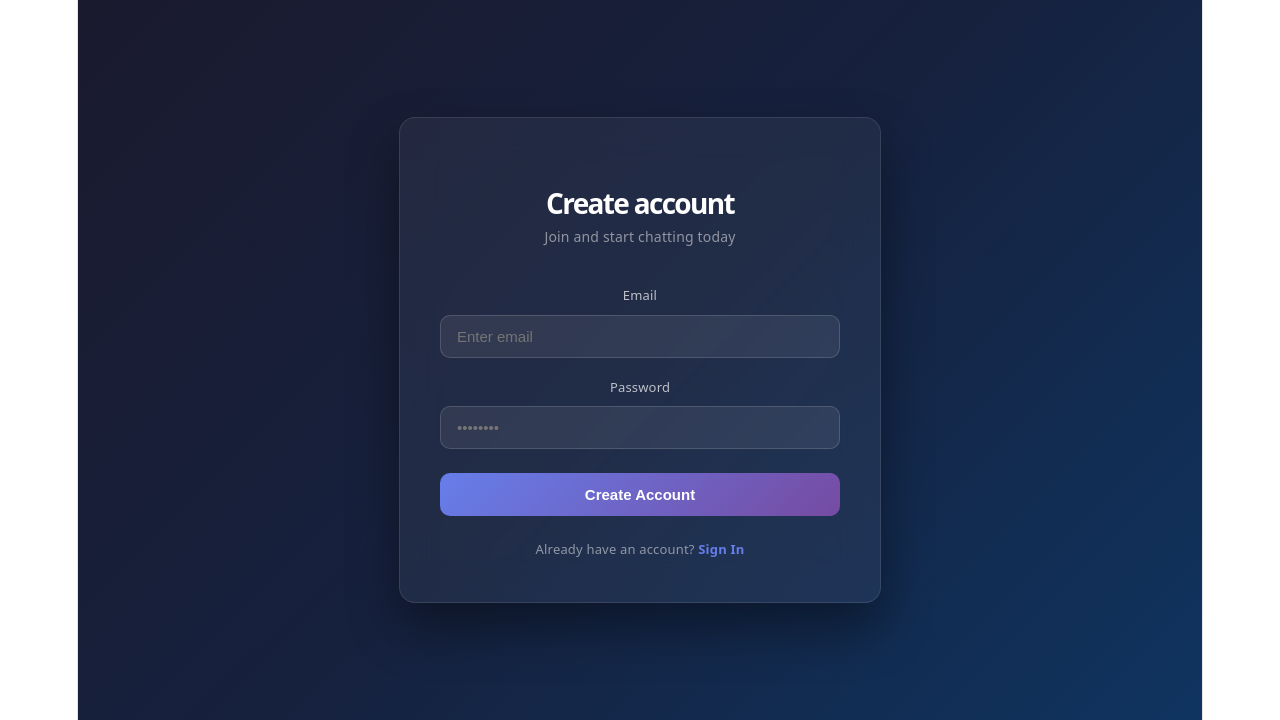
it: Signup Component › shows error when email already exists (409)
Type "existing@test.com" into the field with placeholder "Enter email" at [640, 336], box [440,314,840,358]
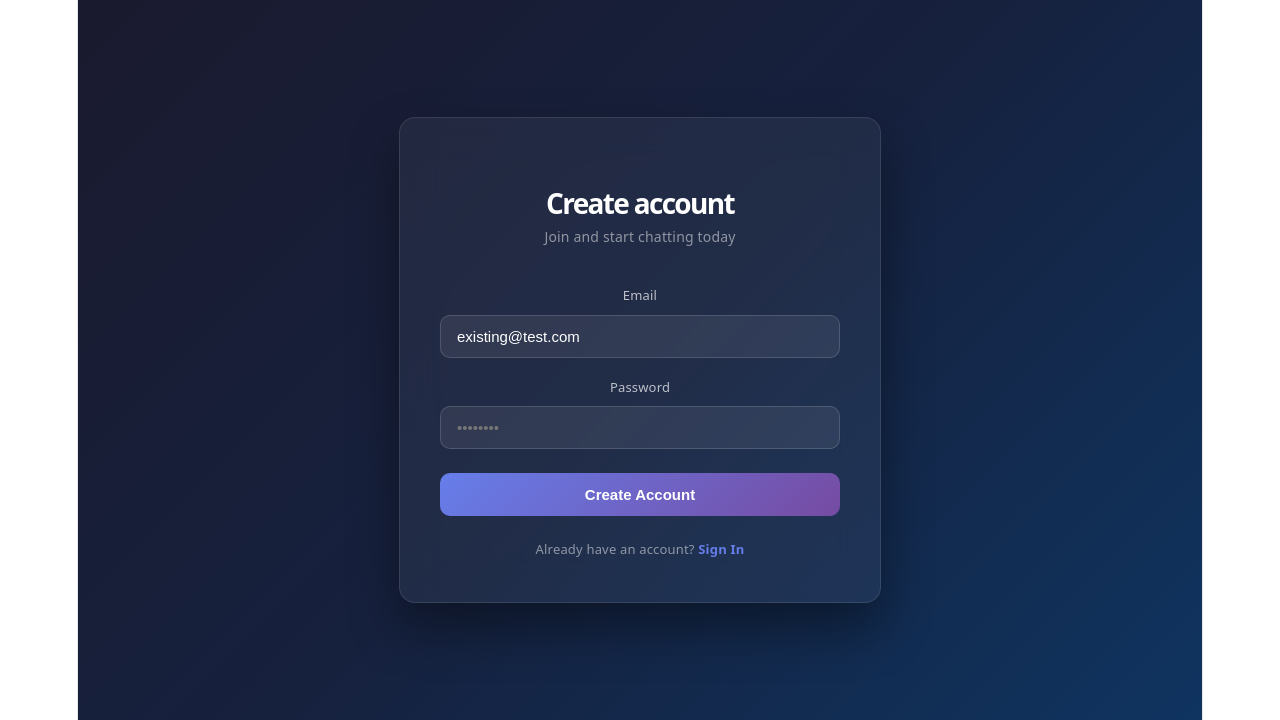
Type "password123" into the password field with placeholder "••••••••" at [640, 427], box [440,406,840,449]
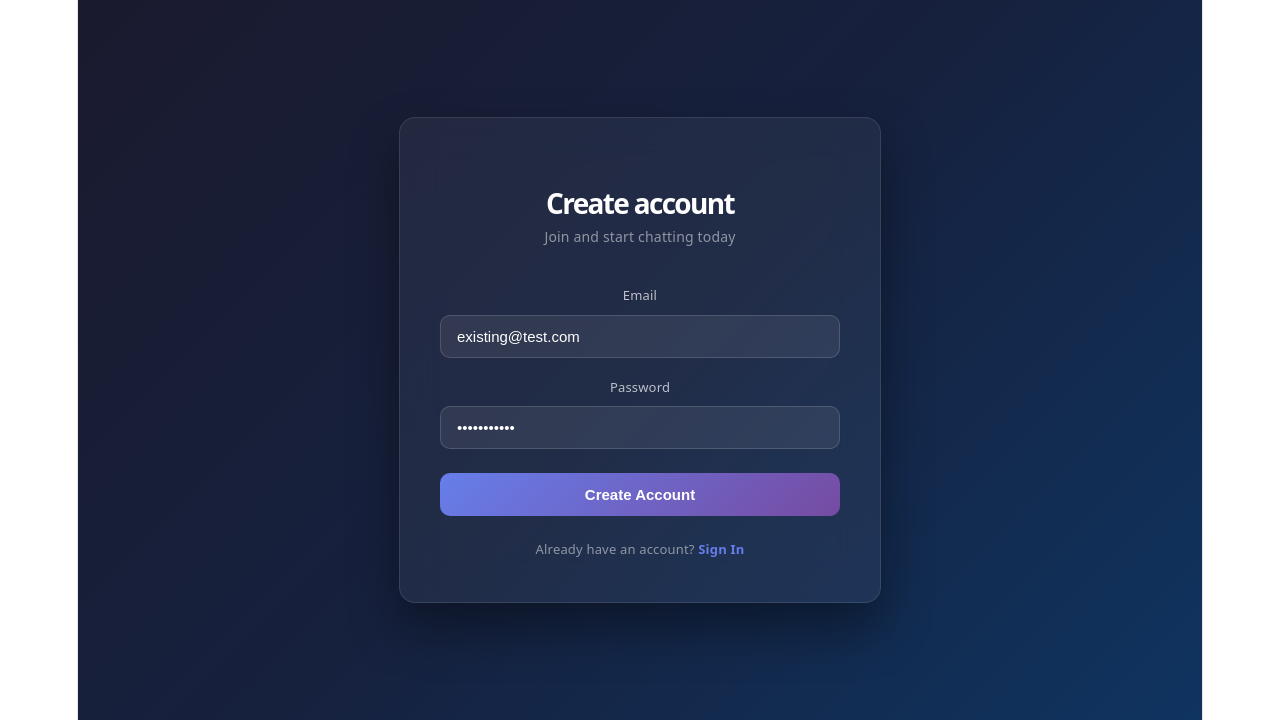
Click the button "Create Account" at [640, 494], box [440,473,840,516]
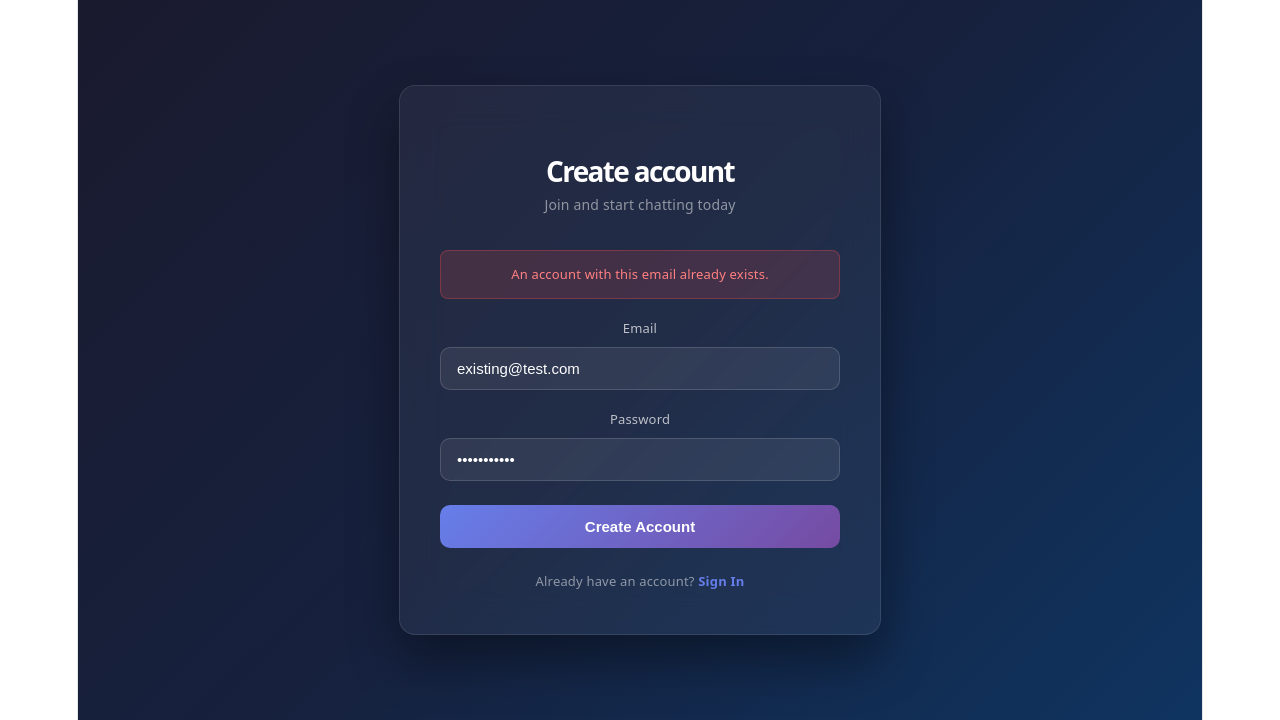
Now the text "An account with this email already exists." is shown, box [440,250,840,298]
